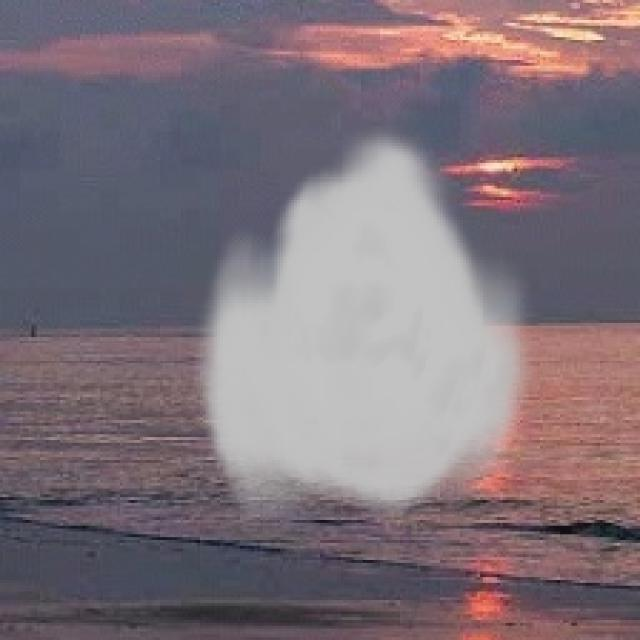smoke: (194, 126, 540, 520)
